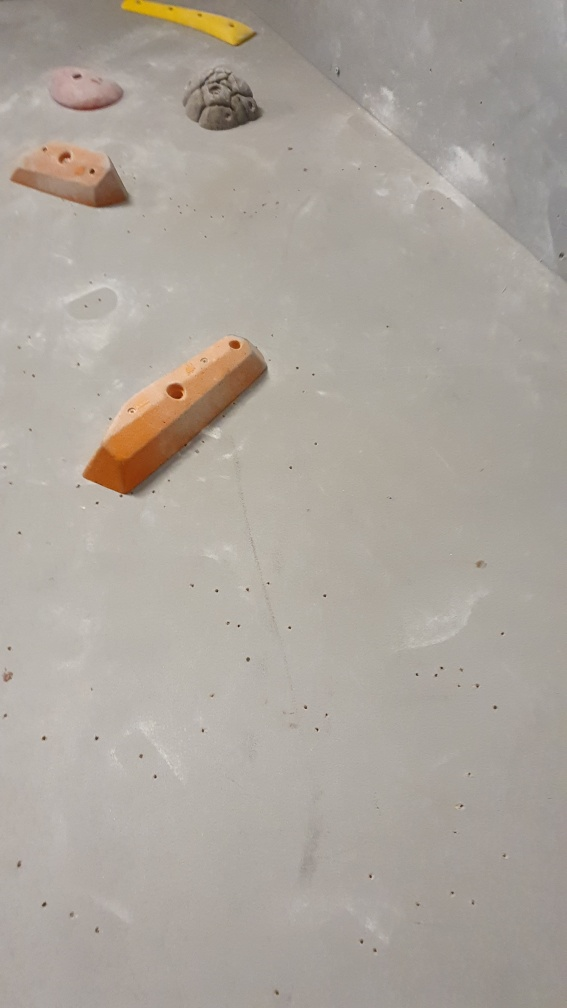Crimp: (119, 5, 259, 48)
Jug: (179, 64, 261, 137)
Pinch: (77, 328, 275, 500), (8, 137, 136, 211)
